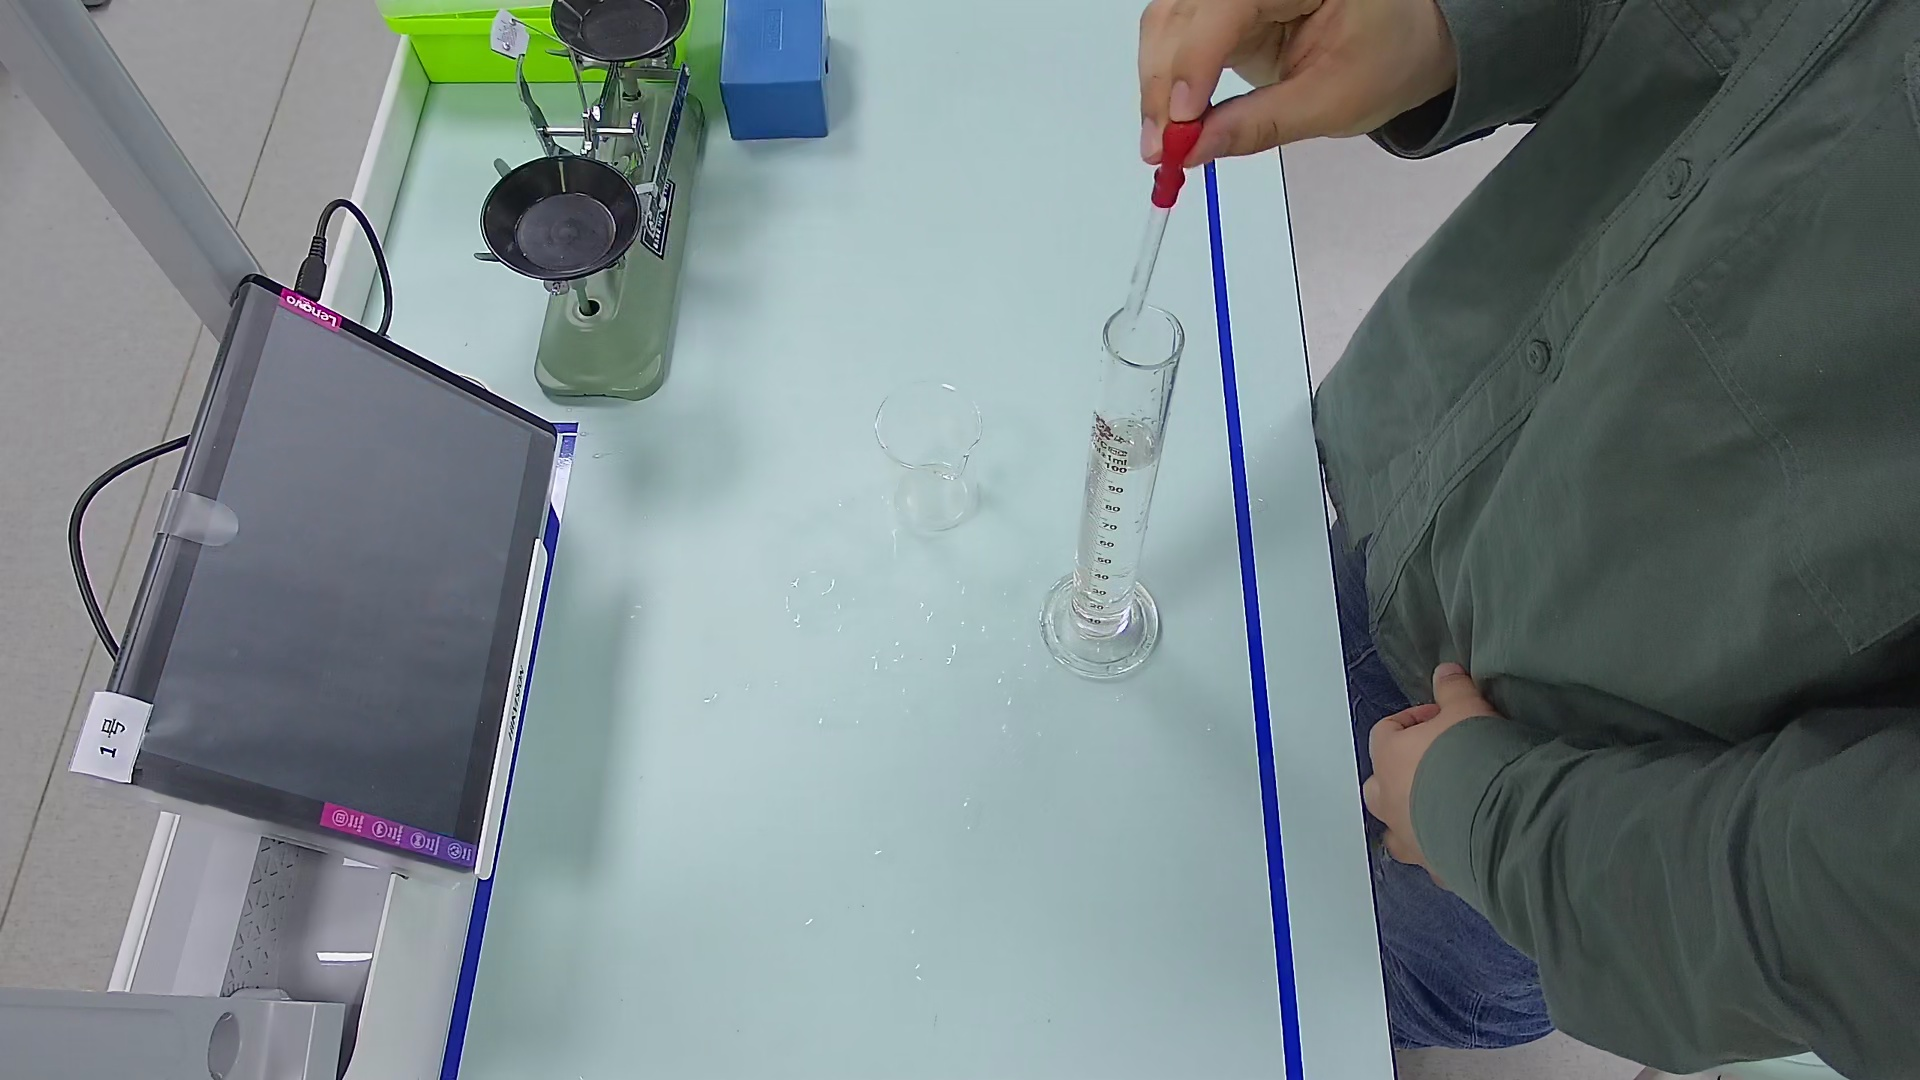ao: (1095, 415, 1164, 472)
diguan: (1121, 113, 1216, 330)
diguantou: (1139, 112, 1200, 214)
hand: (1113, 1, 1411, 160)
liangdi: (1036, 575, 1166, 680)
liangtong: (1038, 289, 1167, 682)
tuo: (481, 152, 650, 291), (541, 1, 695, 65)
